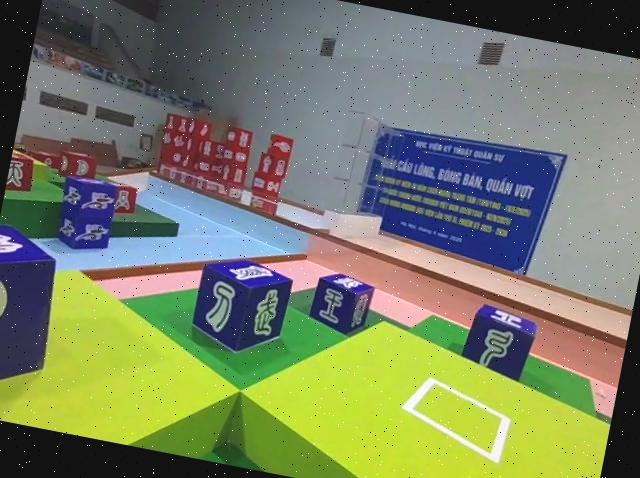R2 Fake Blue: (186, 250, 295, 361), (0, 223, 64, 400), (458, 299, 539, 383), (305, 265, 376, 336)
